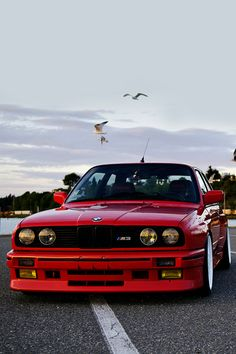car: (6, 160, 231, 303)
